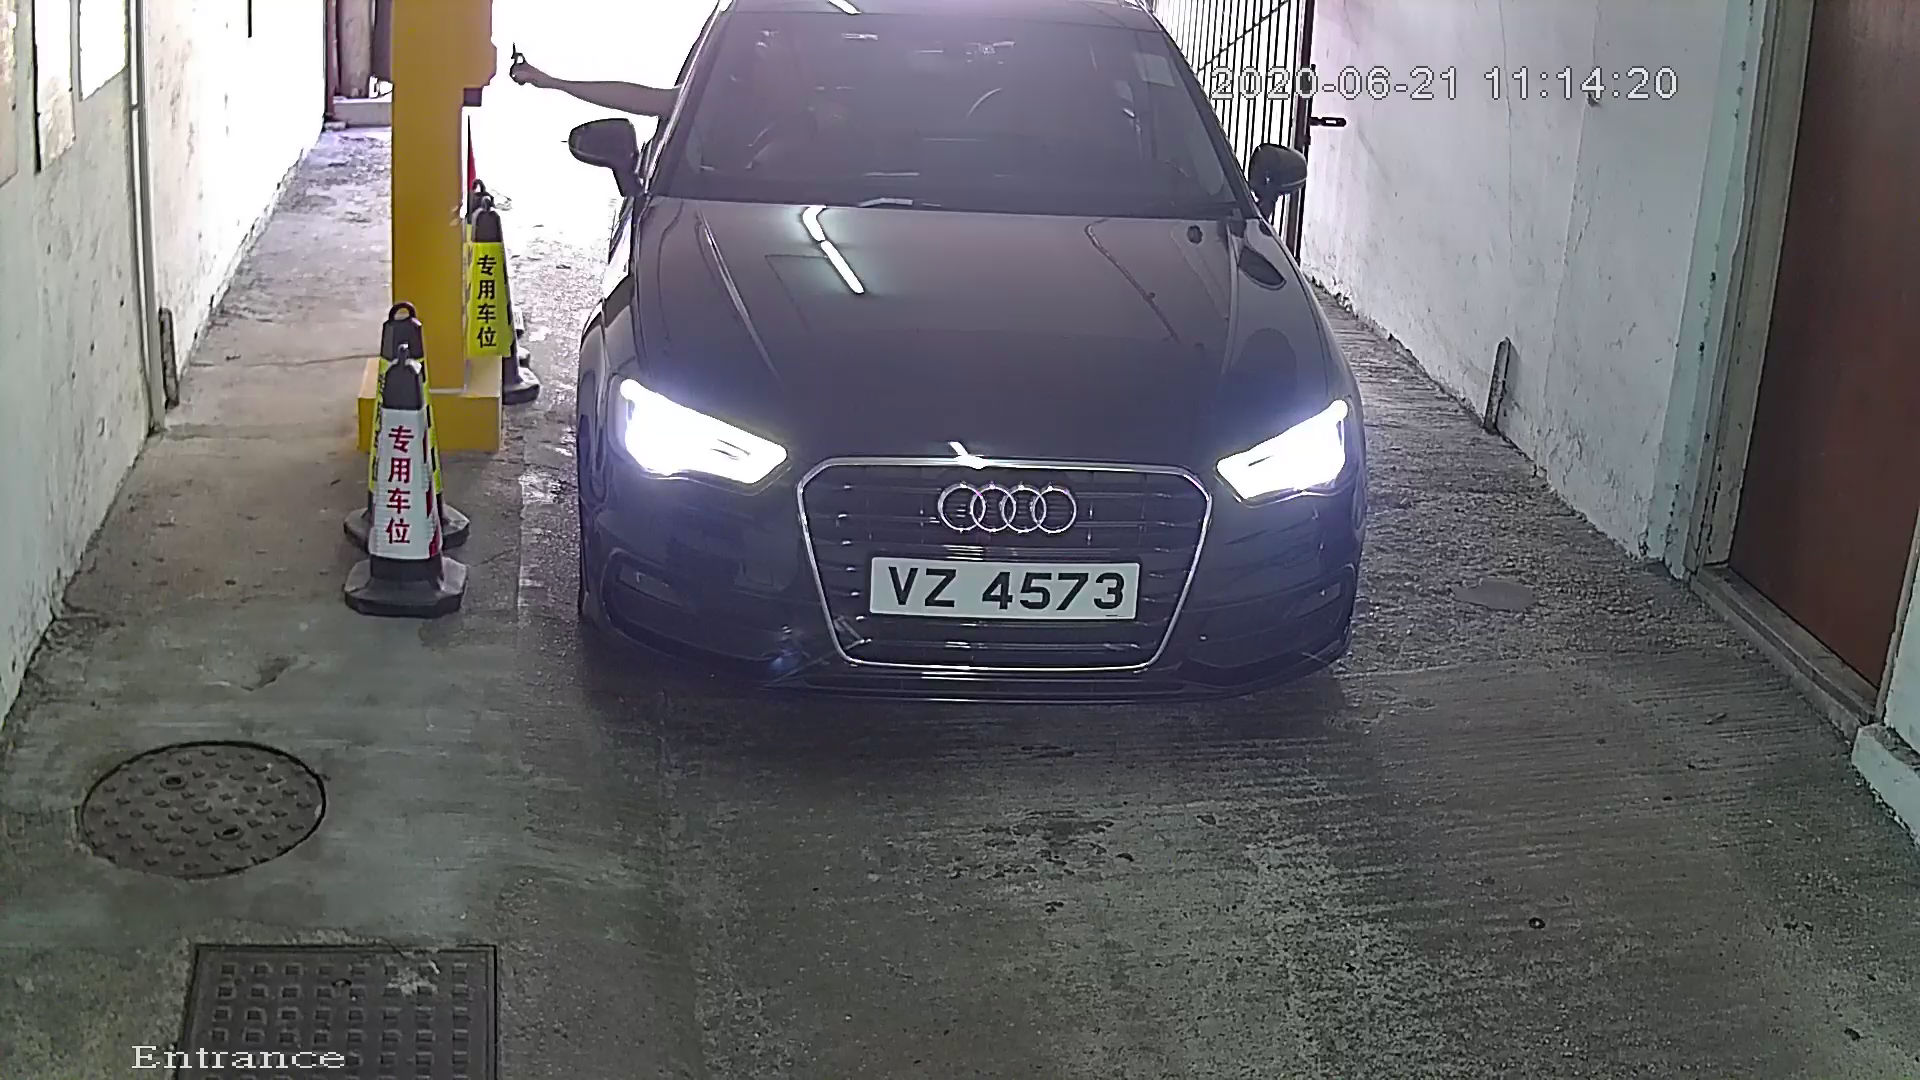privatecar: (535, 3, 1390, 769)
